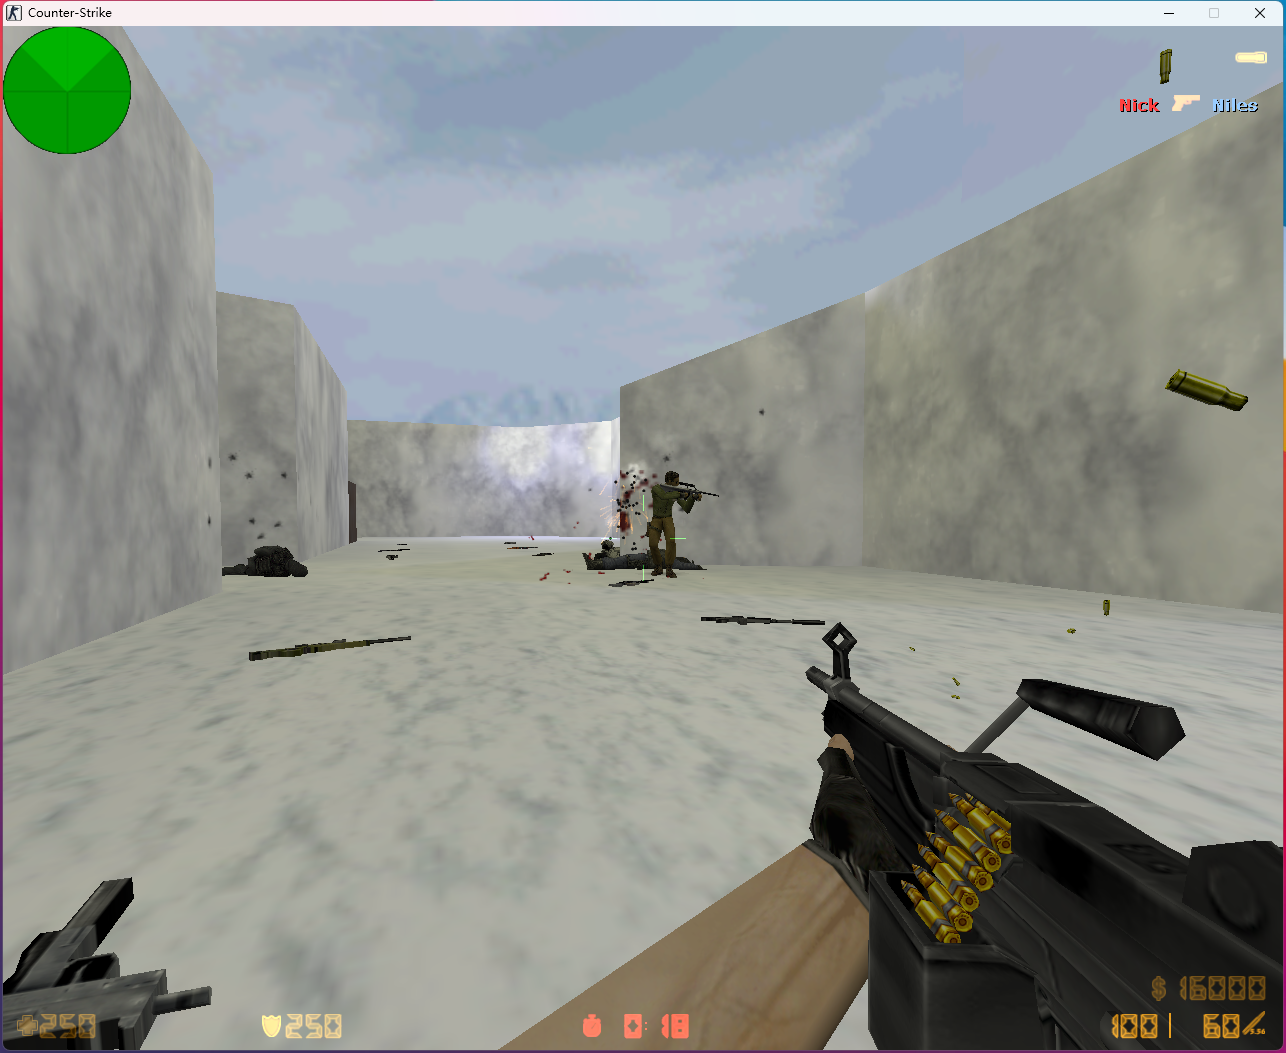T: (646, 470, 697, 579)
dead: (220, 543, 309, 579), (586, 549, 705, 571)
weapon: (1, 863, 213, 1053), (244, 634, 410, 662), (694, 616, 835, 629)
